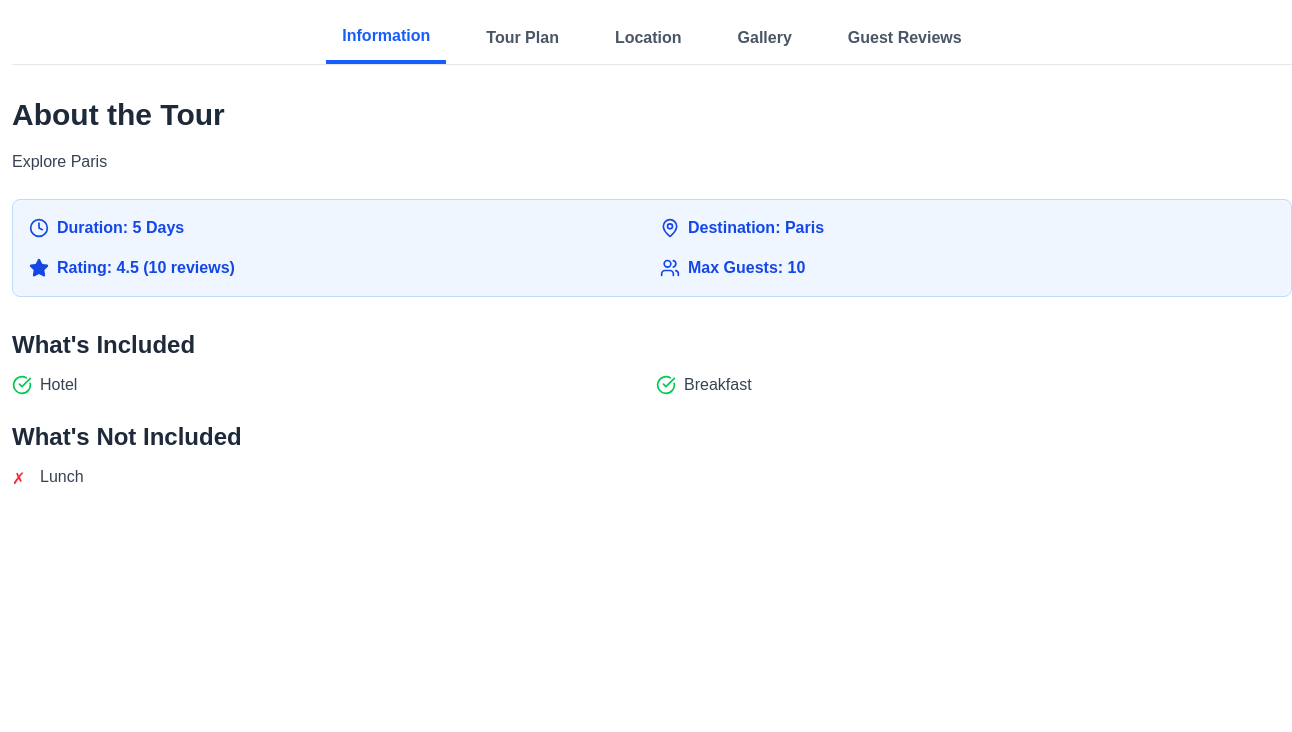
it: TourDetailTabs Component › Tab Switching › should switch to location tab when clicked
Click the button "Location".
click(648, 38)  # box [599,12,698,64]
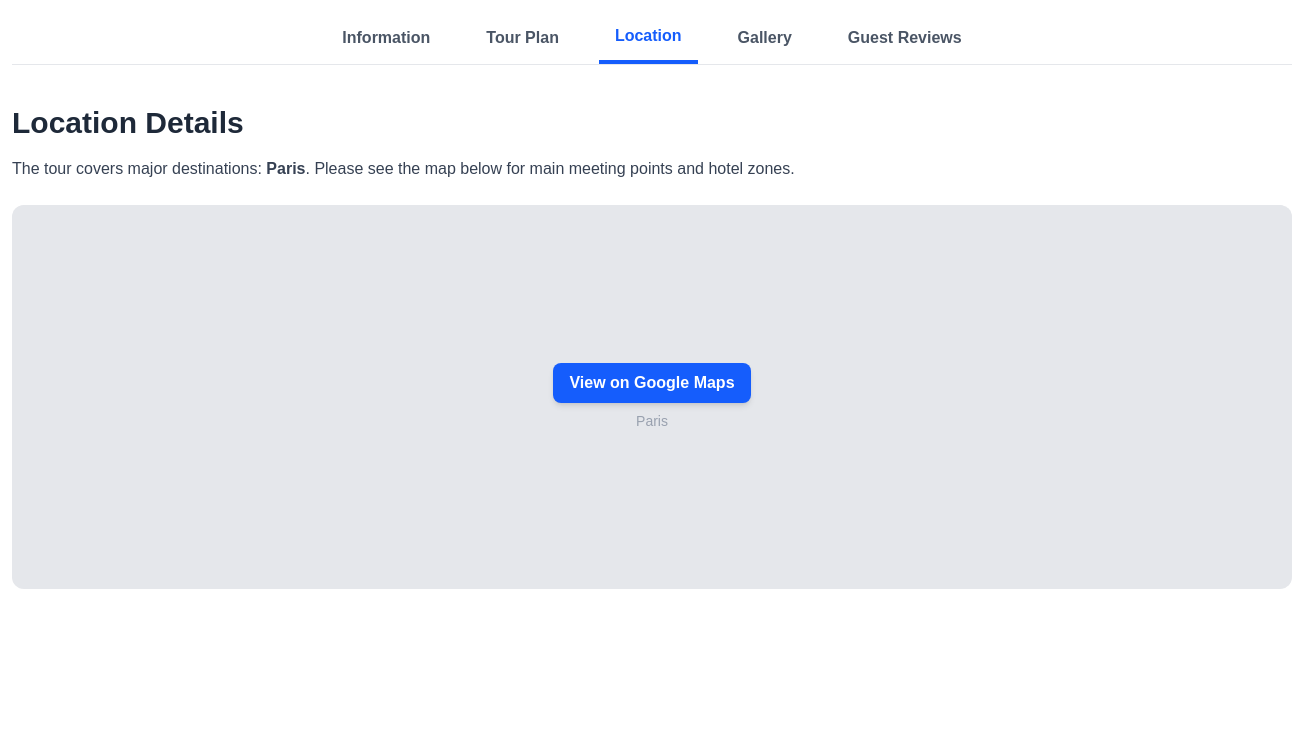
Now the heading "Location Details" is shown, box [12,106,244,139]
